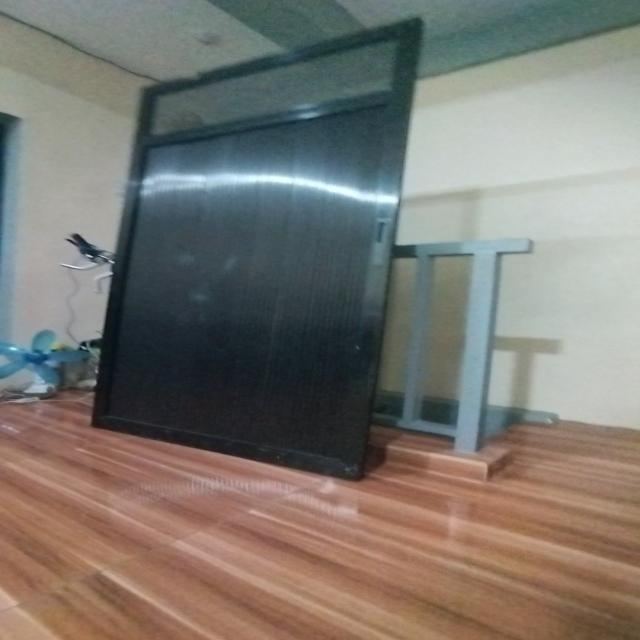door: (92, 18, 430, 479)
